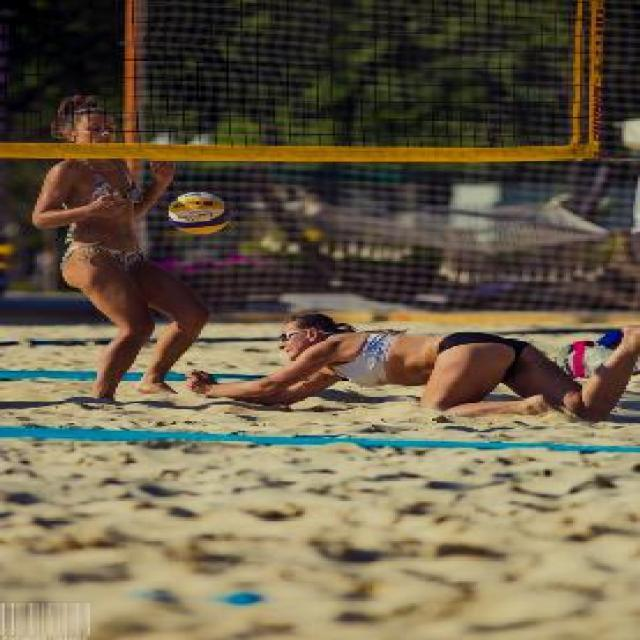volleyball: (168, 192, 228, 236)
